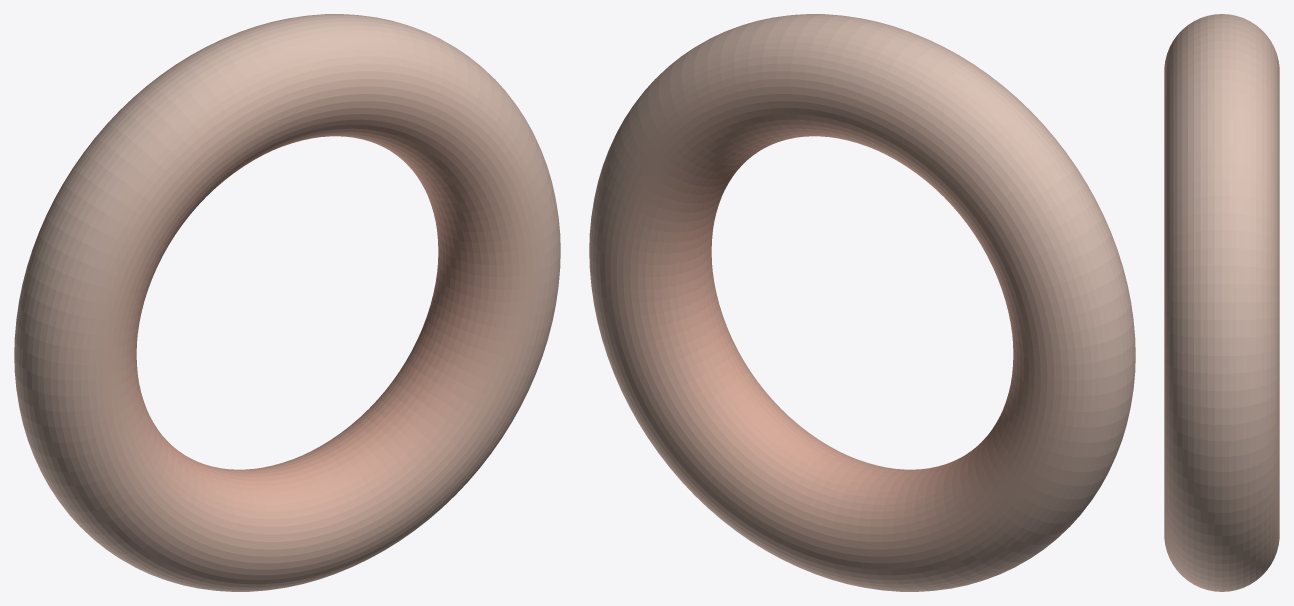
3 views of the same model, side by side, from view 1: azimuth 30°, elevation 25°; view 2: azimuth 150°, elevation 25°; view 3: azimuth 270°, elevation 25° (orthographic). The views are drawn at different scales.
Visible parts, largest first — view 1: world; view 2: world; view 3: world.
Part boxes in pixels (left/top/right/bottom): world: left=14, top=14, right=560, bottom=591; world: left=589, top=14, right=1135, bottom=591; world: left=1164, top=14, right=1279, bottom=591.
Size of the model in its own units: 30 by 30 by 5.99.
